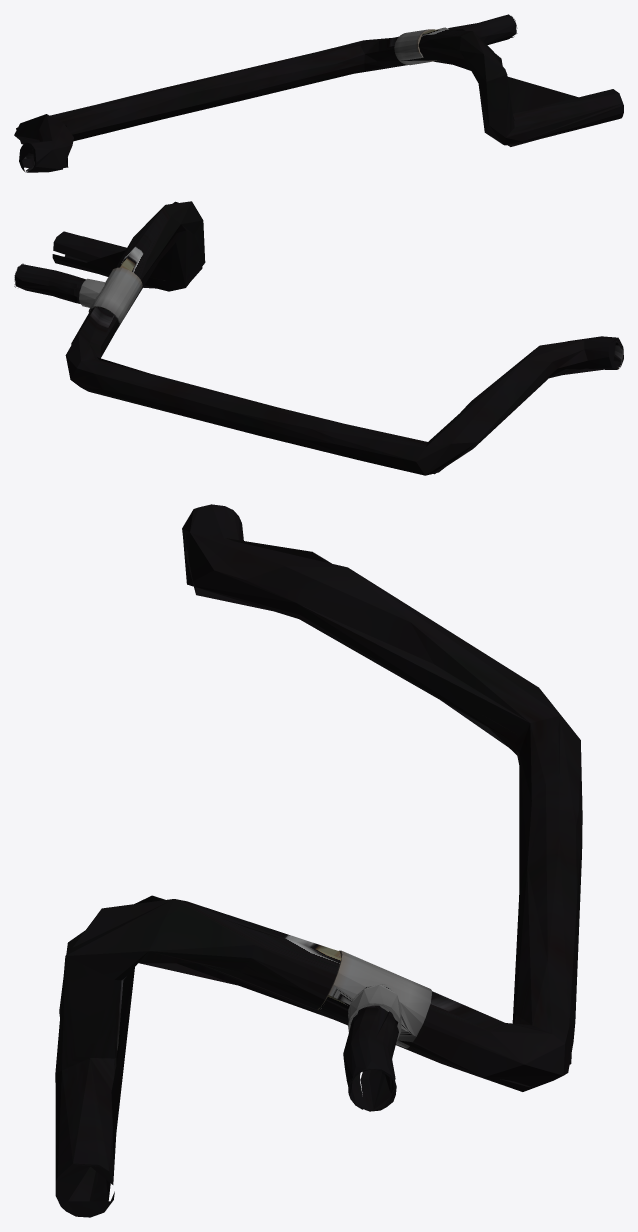
Rendered from consumable_hose_shaped_a01.glb.
3 views of the same model, one above another, from view 1: azimuth 30°, elevation 25°; view 2: azimuth 150°, elevation 25°; view 3: azimuth 270°, elevation 25° (orthographic). The views are drawn at different scales.
Visible parts, largest first — view 1: geometry_0; view 2: geometry_0; view 3: geometry_0.
Part boxes in pixels (x1,y1,x2,y2): geometry_0: (14, 14, 623, 172); geometry_0: (14, 201, 623, 475); geometry_0: (55, 504, 582, 1217).
Bounding box in the file's own units: 0.42 × 0.0737 × 0.1712.
Materials: 1 (1 with a texture image).
